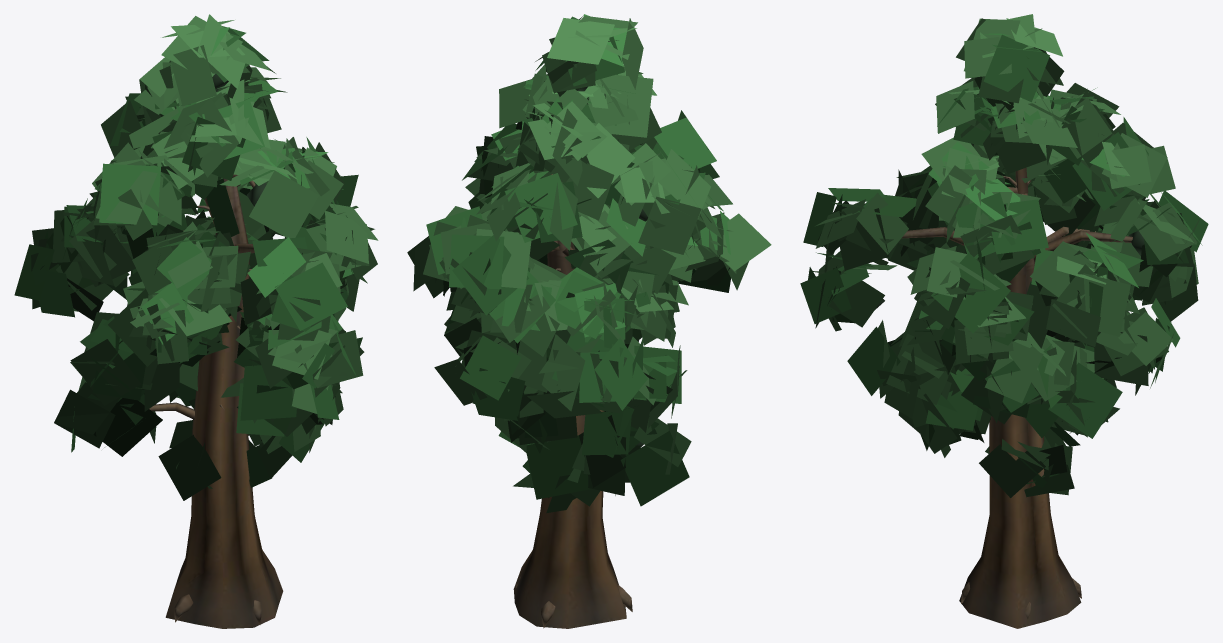
File: tree-04.glb
The picture shows the model from 3 angles, left to right: view 1: azimuth 30°, elevation 25°; view 2: azimuth 150°, elevation 25°; view 3: azimuth 270°, elevation 25°; orthographic projection. The views are drawn at different scales.
Visible parts, largest first — view 1: tree-04; view 2: tree-04; view 3: tree-04.
Part boxes in pixels (left/top/right/bottom): tree-04: left=14, top=14, right=378, bottom=628; tree-04: left=407, top=14, right=771, bottom=628; tree-04: left=800, top=14, right=1208, bottom=628.
Size of the model in its own units: 3.29 by 6.96 by 4.48.
Materials: 3 (1 with a texture image).
